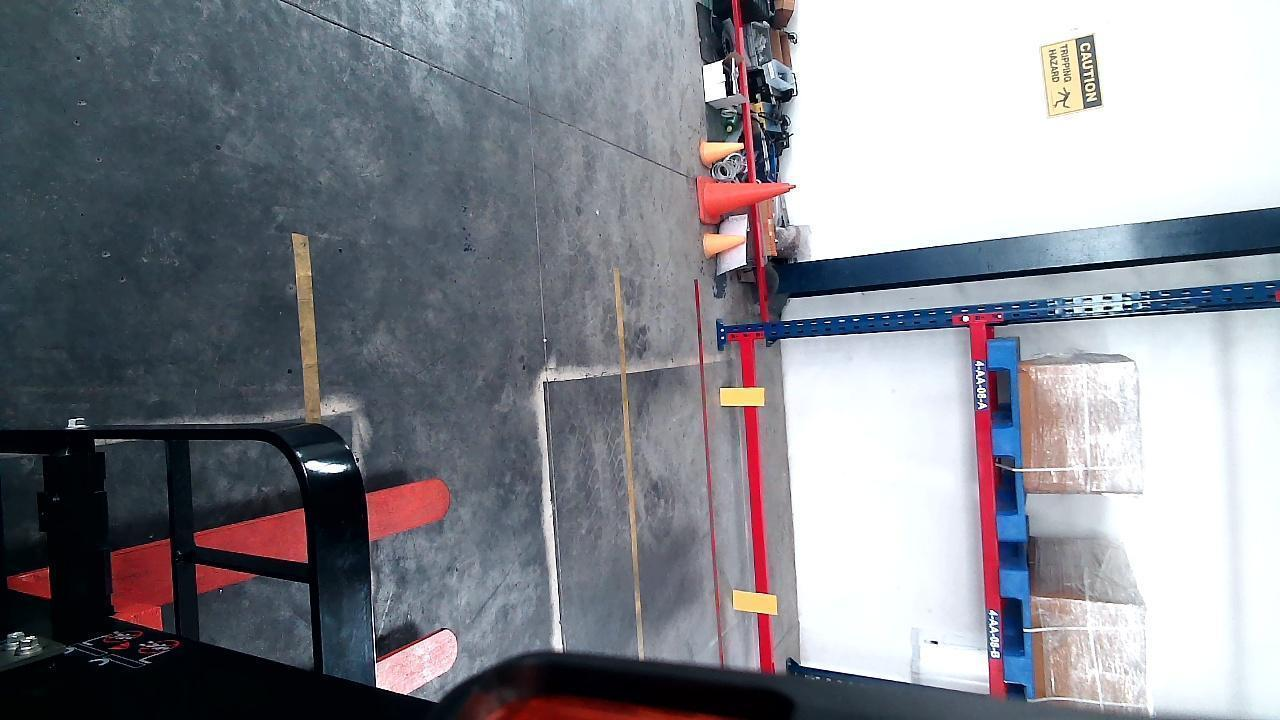red_line: (694, 277, 724, 666)
yellow_line: (613, 277, 643, 663), (291, 233, 321, 419)
